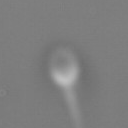normal: (55, 85, 83, 127)
